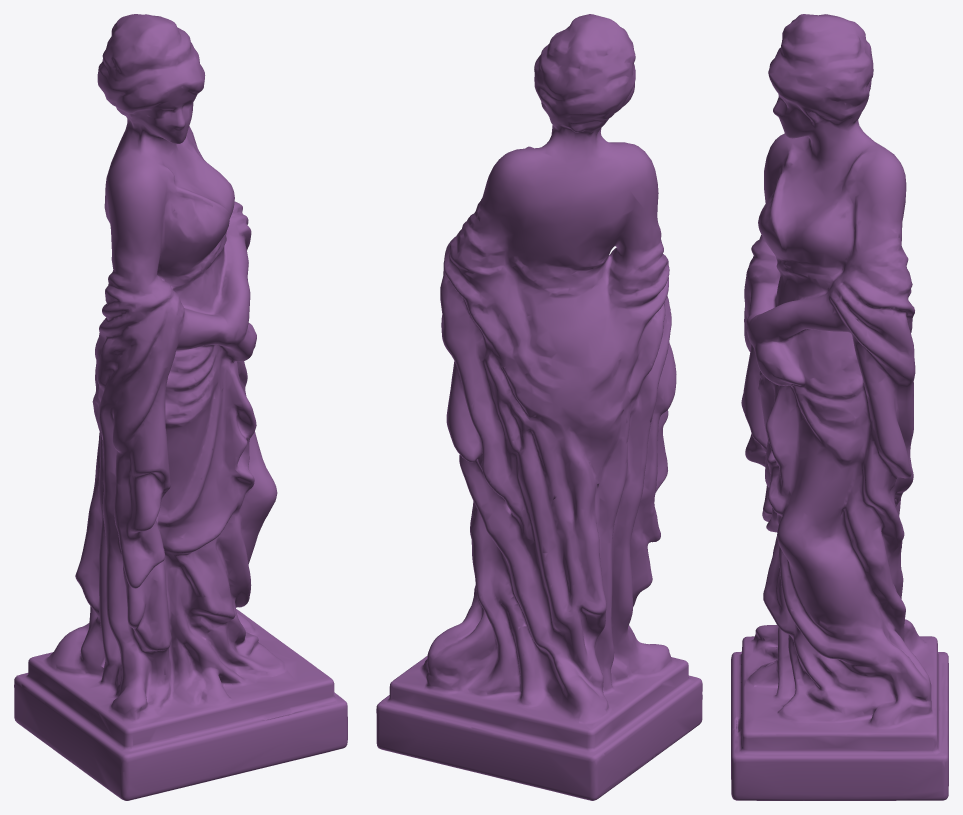
Rendered from woman-violet.glb.
The picture shows the model from 3 angles, left to right: view 1: azimuth 30°, elevation 25°; view 2: azimuth 150°, elevation 25°; view 3: azimuth 270°, elevation 25°; orthographic projection. The views are drawn at different scales.
Visible parts, largest first — view 1: woman-violet - original generated mesh; view 2: woman-violet - original generated mesh; view 3: woman-violet - original generated mesh.
Part boxes in pixels (x1,y1,x2,y2): woman-violet - original generated mesh: (14, 14, 347, 800); woman-violet - original generated mesh: (376, 14, 702, 800); woman-violet - original generated mesh: (731, 14, 948, 800).
Bounding box in the file's own units: 0.9675 × 3 × 0.8312.
